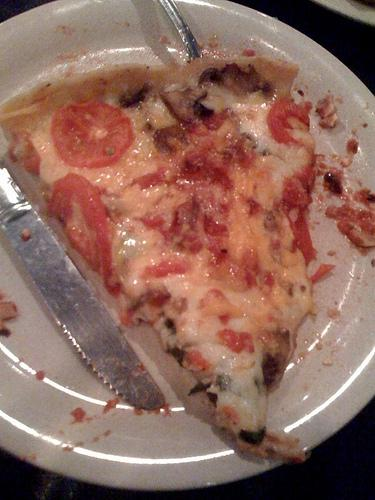mushroom: (198, 62, 276, 99), (260, 329, 292, 392), (162, 88, 208, 124), (152, 125, 191, 154), (120, 82, 150, 109), (193, 102, 214, 118), (165, 318, 177, 334)
tomato: (48, 172, 112, 280), (51, 100, 133, 170), (282, 165, 316, 266), (266, 101, 310, 144)
